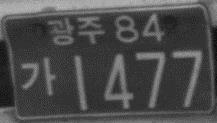1: (72, 52, 89, 112)
4: (103, 51, 134, 110), (141, 11, 164, 43)
7: (133, 50, 167, 109), (170, 48, 203, 108)
8: (113, 13, 138, 43)
가: (19, 54, 56, 97)
광주_O: (45, 15, 105, 47)
